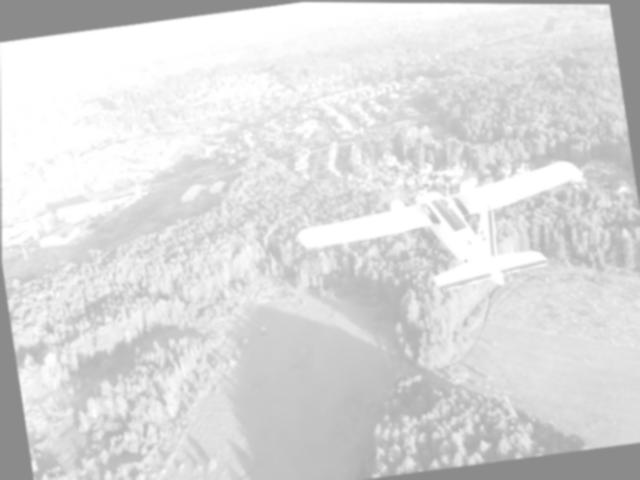hedef: (295, 150, 623, 318)
